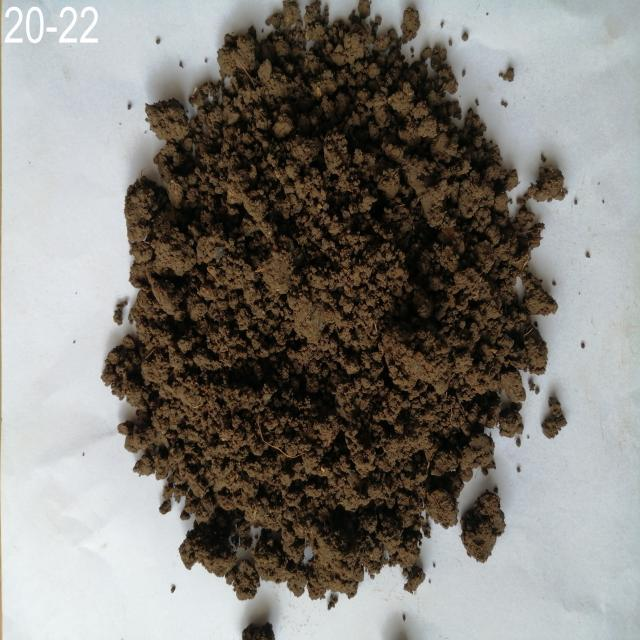soil: (180, 118, 460, 504)
